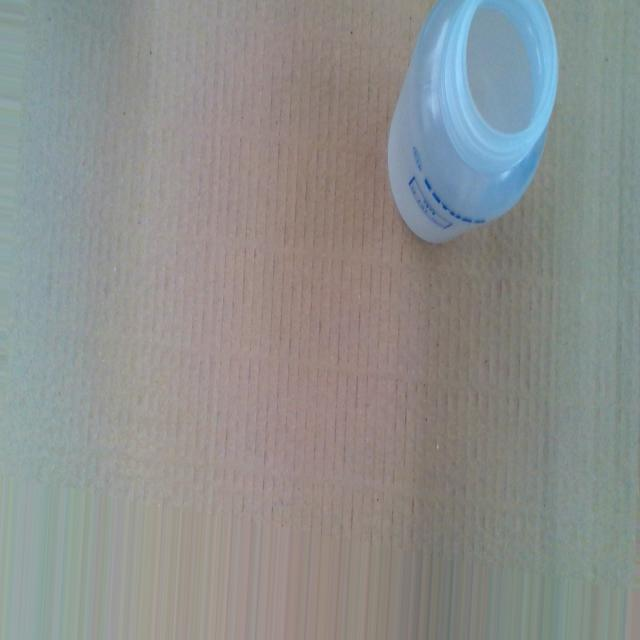bottle: (385, 2, 559, 244)
